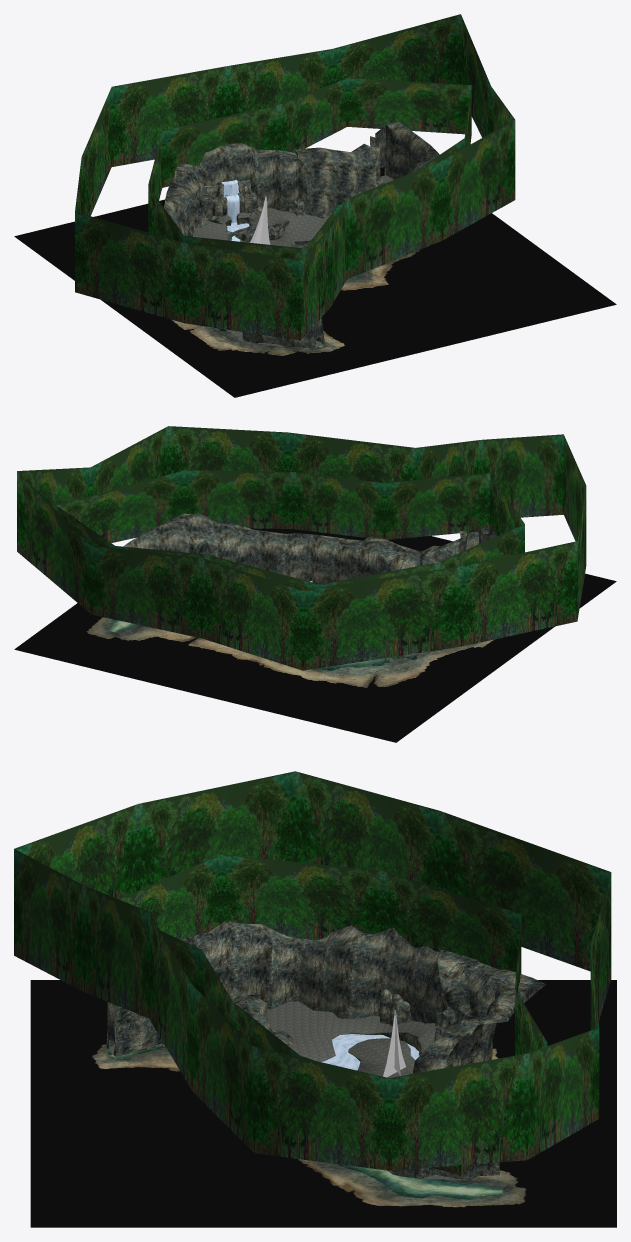
File: jungle_b_zero.fbx
3 views of the same model, one above another, from view 1: azimuth 30°, elevation 25°; view 2: azimuth 150°, elevation 25°; view 3: azimuth 270°, elevation 25° (orthographic). The views are drawn at different scales.
Visible parts, largest first — view 1: tree_wall_futther, minimap_0, tree_wall_far, cliff_big, ground, jungle_rocks; view 2: tree_wall_futther, minimap_0, tree_wall_far, cliff_big; view 3: tree_wall_futther, minimap_0, tree_wall_far, cliff_big, ground, river, rock10.
Part boxes in pixels (x1,y1,x2,y2): tree_wall_futther: [75, 14, 515, 340]; minimap_0: [14, 167, 616, 397]; tree_wall_far: [148, 77, 471, 259]; cliff_big: [164, 121, 439, 349]; ground: [195, 175, 393, 349]; jungle_rocks: [212, 180, 347, 281]; tree_wall_futther: [17, 426, 586, 670]; minimap_0: [14, 528, 616, 742]; tree_wall_far: [56, 470, 524, 589]; cliff_big: [123, 513, 496, 657]; tree_wall_futther: [14, 771, 611, 1170]; minimap_0: [30, 980, 616, 1227]; tree_wall_far: [119, 854, 547, 1175]; cliff_big: [106, 921, 545, 1179]; ground: [106, 1001, 499, 1179]; river: [321, 1034, 419, 1070]; rock10: [379, 989, 411, 1026].
Bounding box in the file's own units: 185698 × 54835 × 154302.
6 materials, 6 textured.
